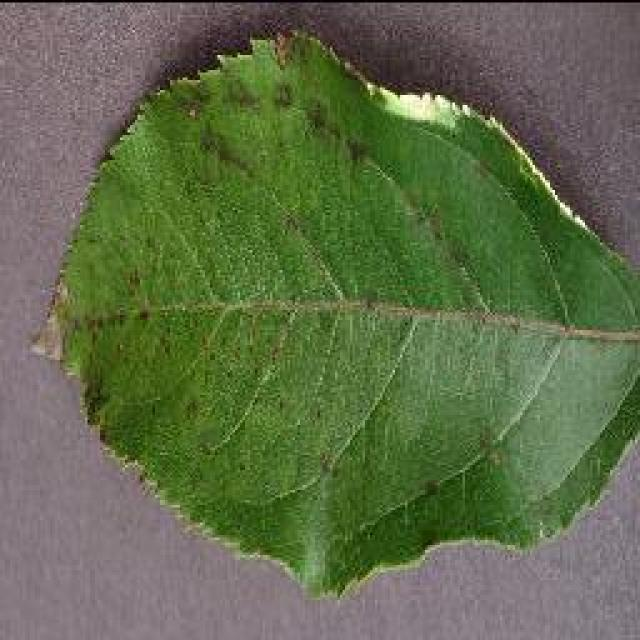apple scab disease: (32, 25, 638, 600)
